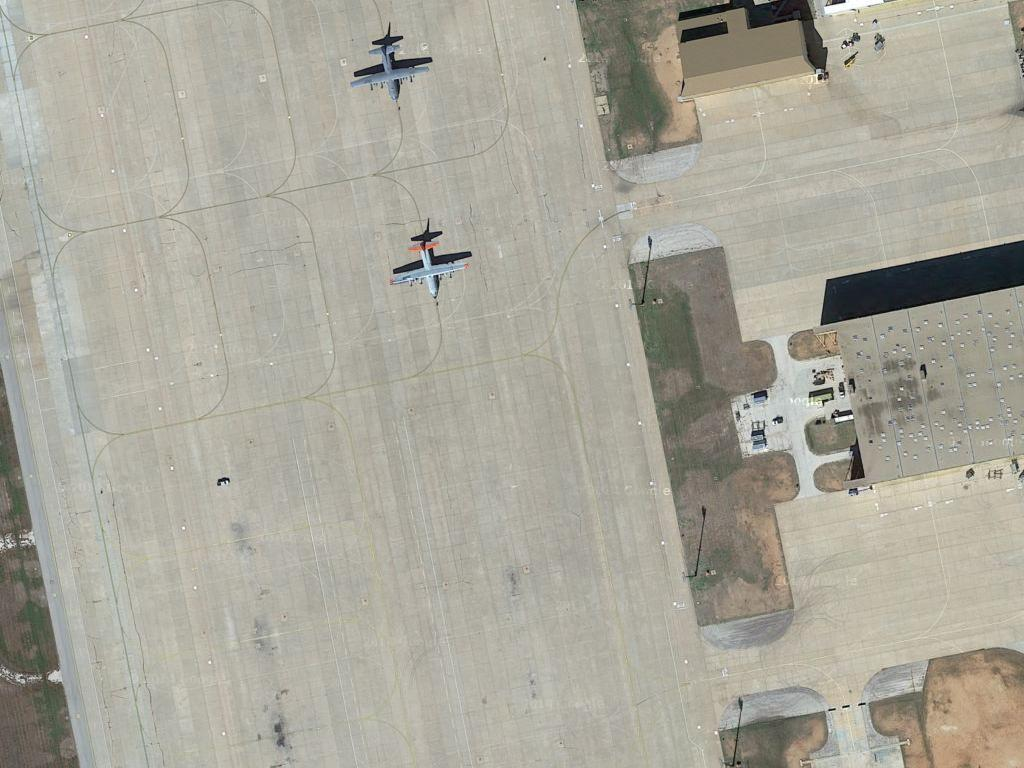C-130: (382, 233, 477, 302), (350, 44, 435, 105)
